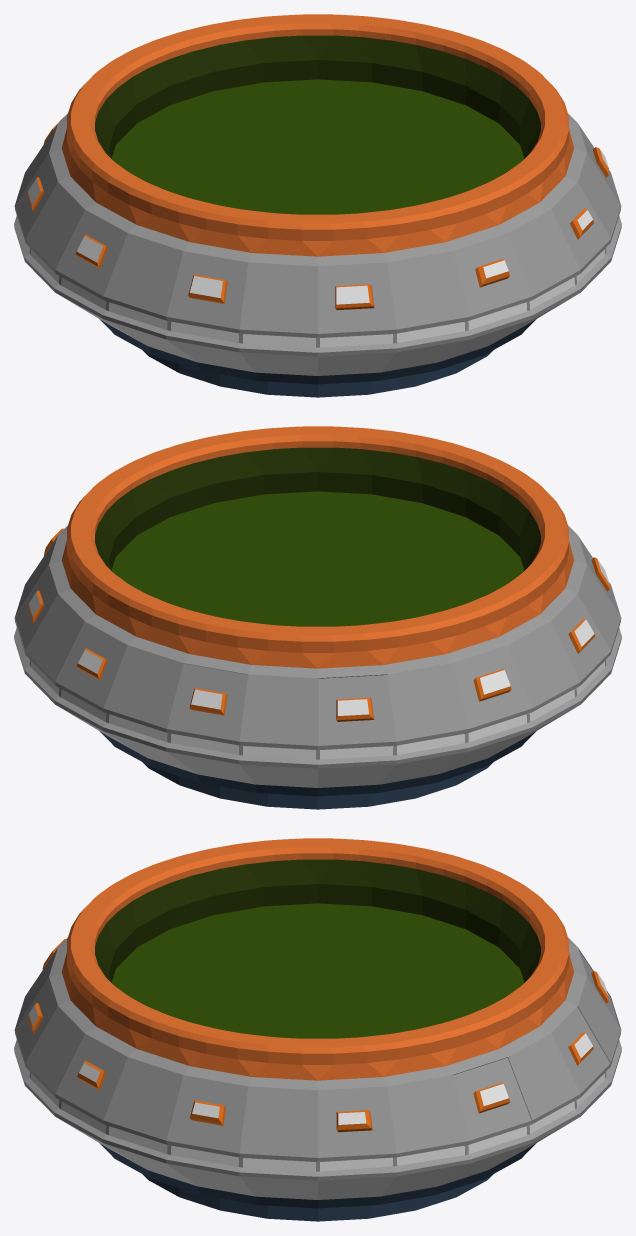
Rendered from spaceship.fbx.
3 views of the same model, one above another, from view 1: azimuth 30°, elevation 25°; view 2: azimuth 150°, elevation 25°; view 3: azimuth 270°, elevation 25° (orthographic).
Parts seen in each view (by area): view 1: Torus; view 2: Torus; view 3: Torus.
Boxes of the visible parts, x1,y1,x2,y2 form: Torus: (14, 14, 621, 397); Torus: (14, 426, 621, 809); Torus: (14, 838, 621, 1221).
Size of the model in its own units: 242 by 103 by 242.
